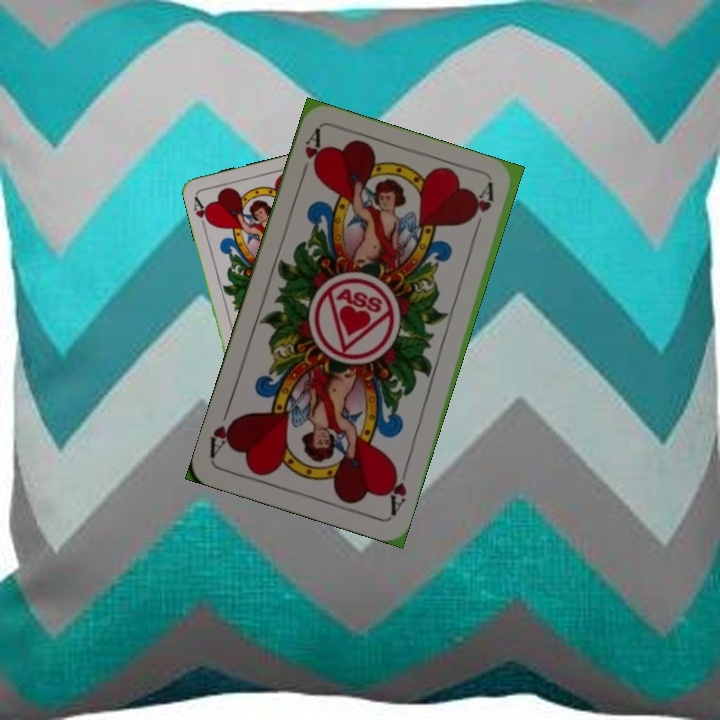HA: (298, 126, 326, 184), (383, 459, 410, 518), (190, 192, 213, 232)
